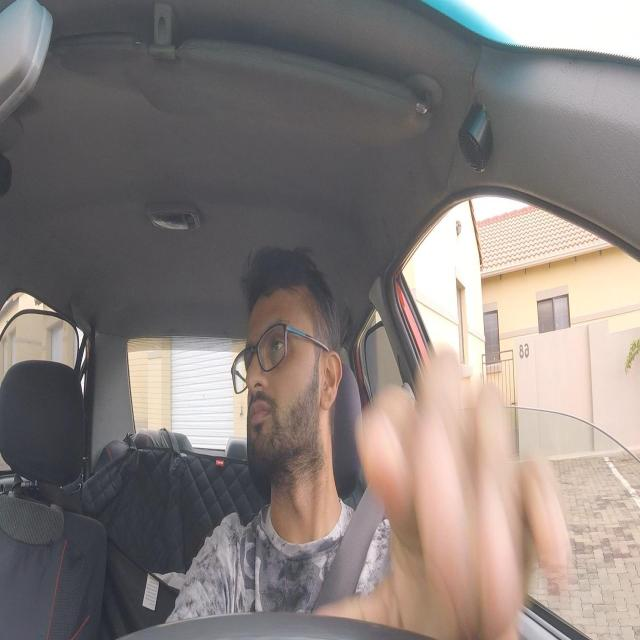open: (264, 319, 290, 374)
